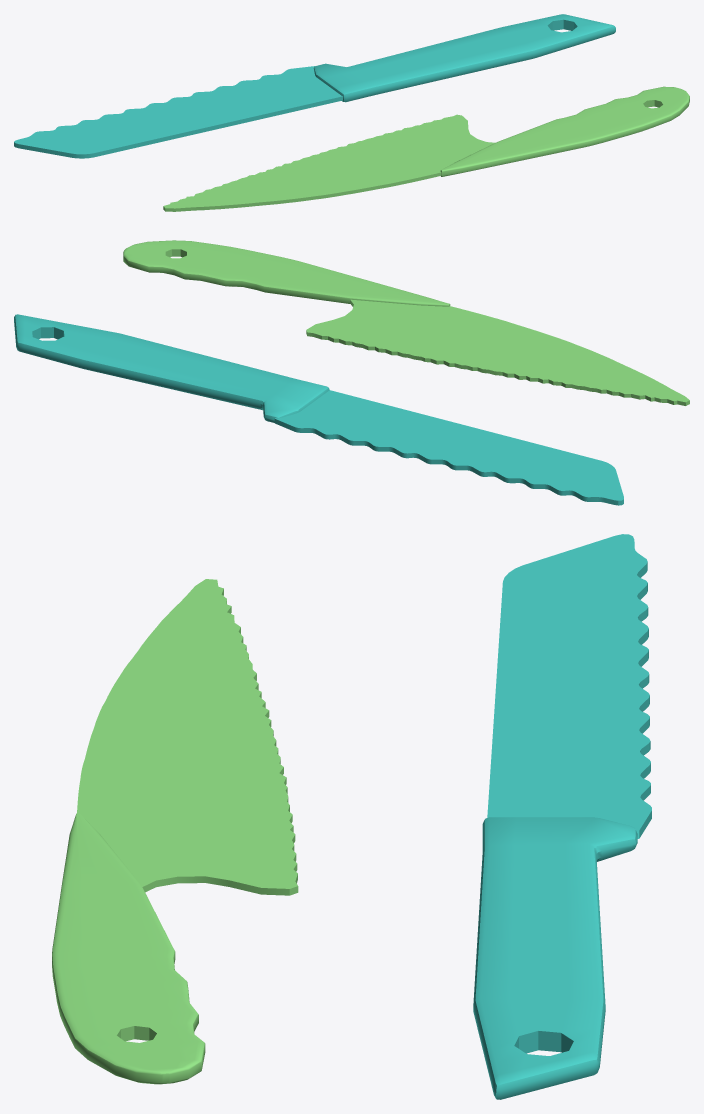
File: P_Knifes.fbx
3 renders of one model, top to bottom at view 1: azimuth 30°, elevation 25°; view 2: azimuth 150°, elevation 25°; view 3: azimuth 270°, elevation 25°, orthographic. The views are drawn at different scales.
Parts seen in each view (by area): view 1: P_Knife_Var1, P_Knife_Var2; view 2: P_Knife_Var1, P_Knife_Var2; view 3: P_Knife_Var1, P_Knife_Var2.
Part boxes in pixels (x1,y1,x2,y2): P_Knife_Var1: (14,14,615,158); P_Knife_Var2: (163,86,689,211); P_Knife_Var1: (14,314,623,505); P_Knife_Var2: (123,240,689,405); P_Knife_Var1: (473,534,651,1099); P_Knife_Var2: (52,579,298,1084).
Bounding box in the file's own units: 4418 × 75.29 × 2018.
